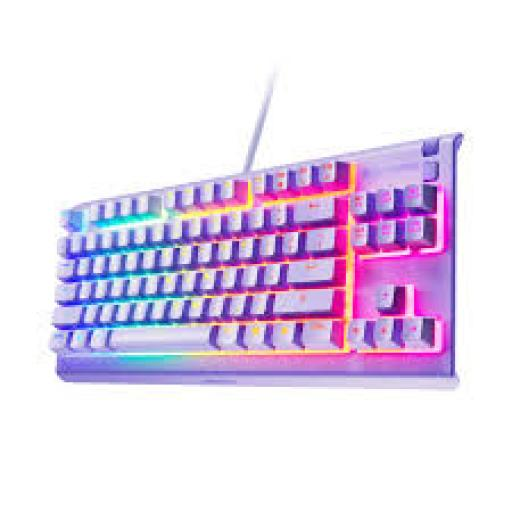KEYBOARD-2: (48, 134, 460, 385)
